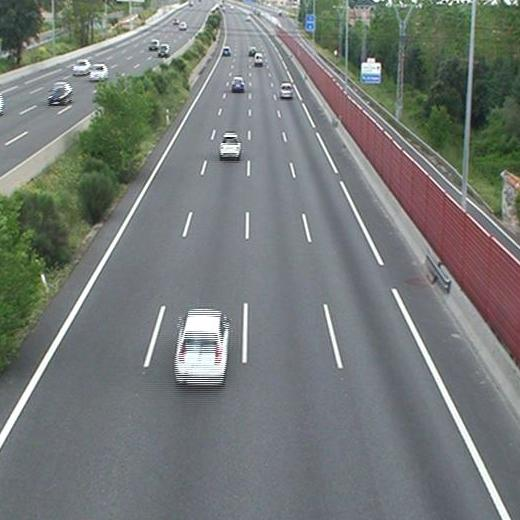car: (175, 310, 226, 385), (221, 132, 241, 159), (279, 83, 292, 98), (232, 76, 245, 90), (221, 46, 232, 57), (248, 48, 257, 56)
van: (255, 53, 263, 66)
